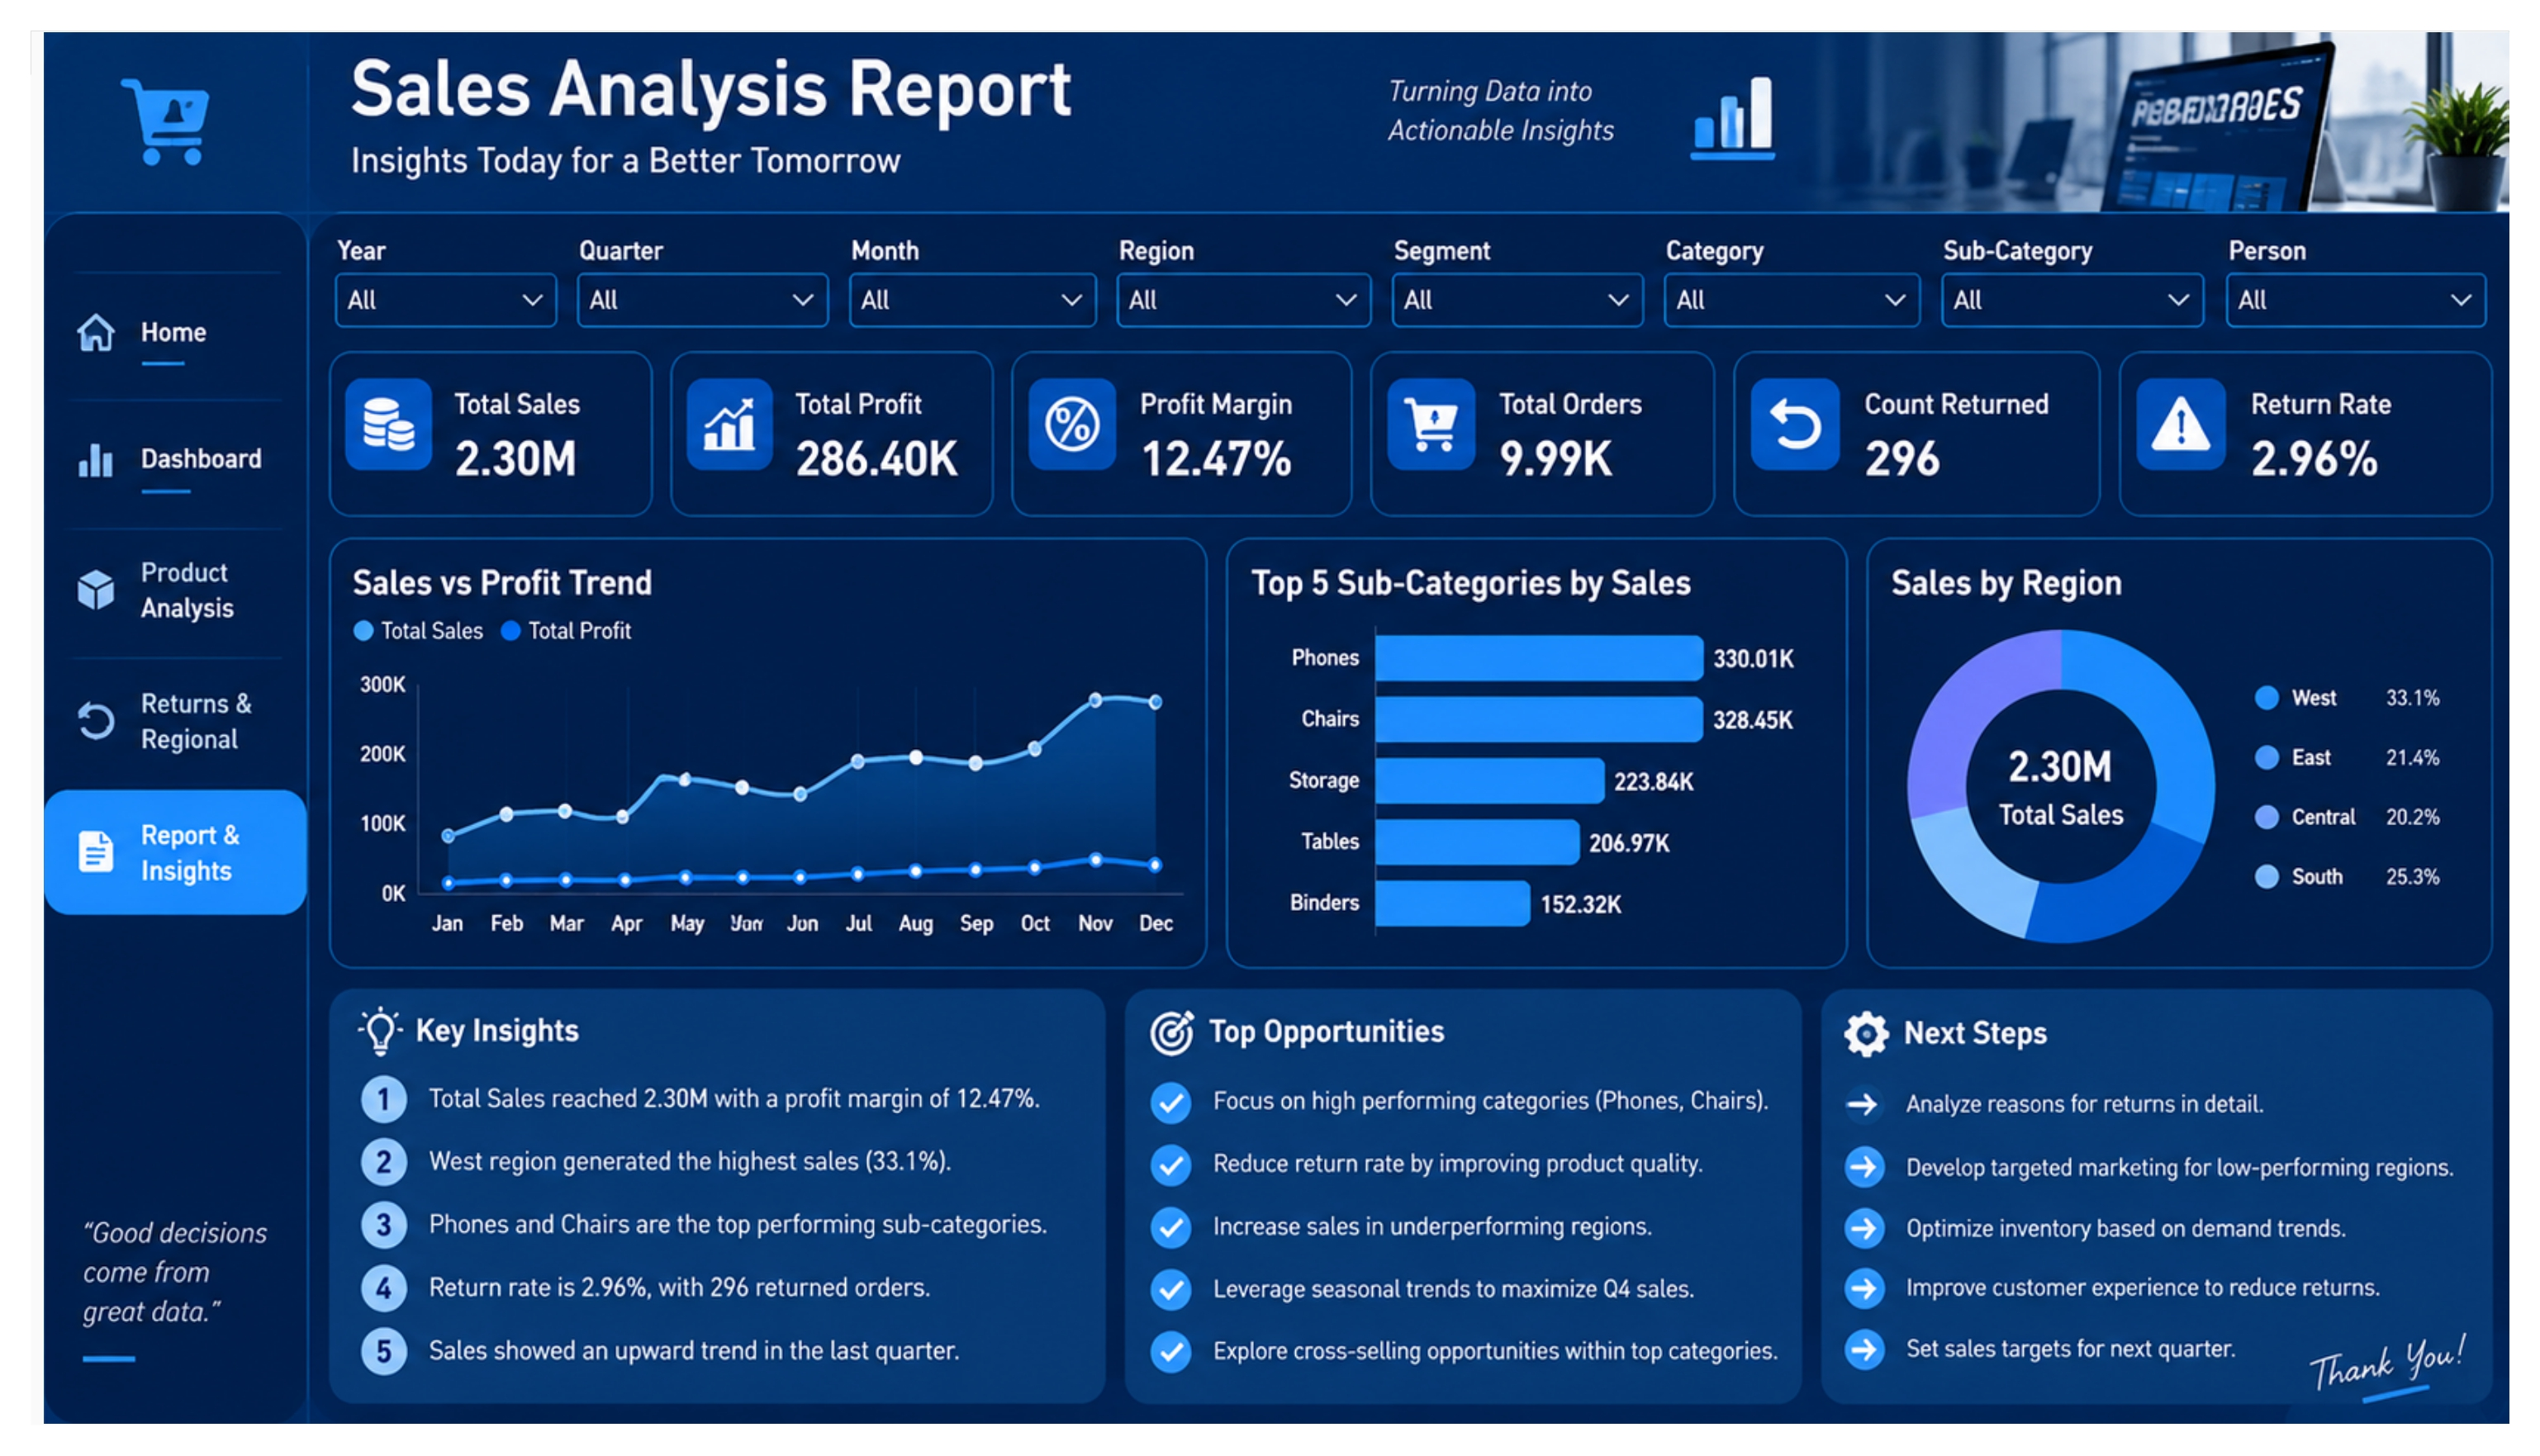

The page's visual inventory and layout, read from the dashboard file:
{"tool":"powerbi","page":{"name":"Report","canvas":[1920,1080],"ordinal":4},"visuals":[{"type":"image","box":[10,0,1910,1079.6],"z":0},{"type":"pageNavigator","box":[73.7,204.8,128.2,480.4],"z":1000}]}

Visuals, with their boxes on the page's 1920x1080 design canvas (x1, y1, x2, y2). These are canvas units, not pixel positions in the 2540x1456 screenshot, which may show the page scaled, cropped or inside an application window:
image: left=10, top=0, right=1920, bottom=1080
pageNavigator: left=74, top=205, right=202, bottom=685
